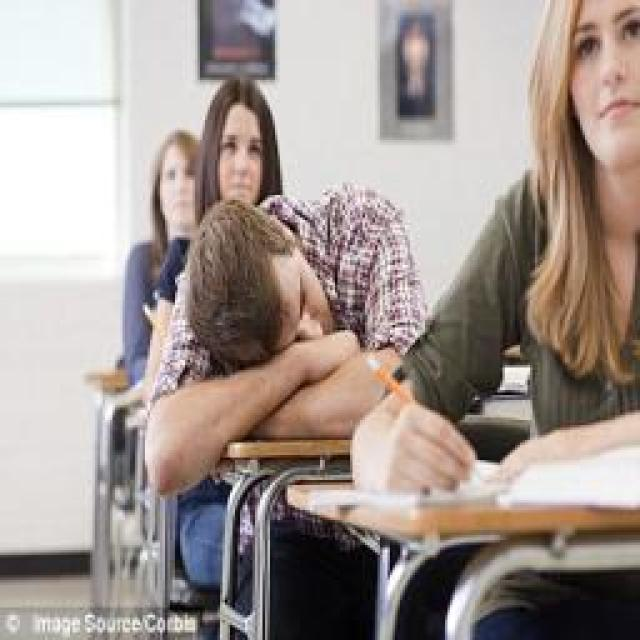sleep: (150, 175, 425, 495)
study: (342, 0, 640, 505)
